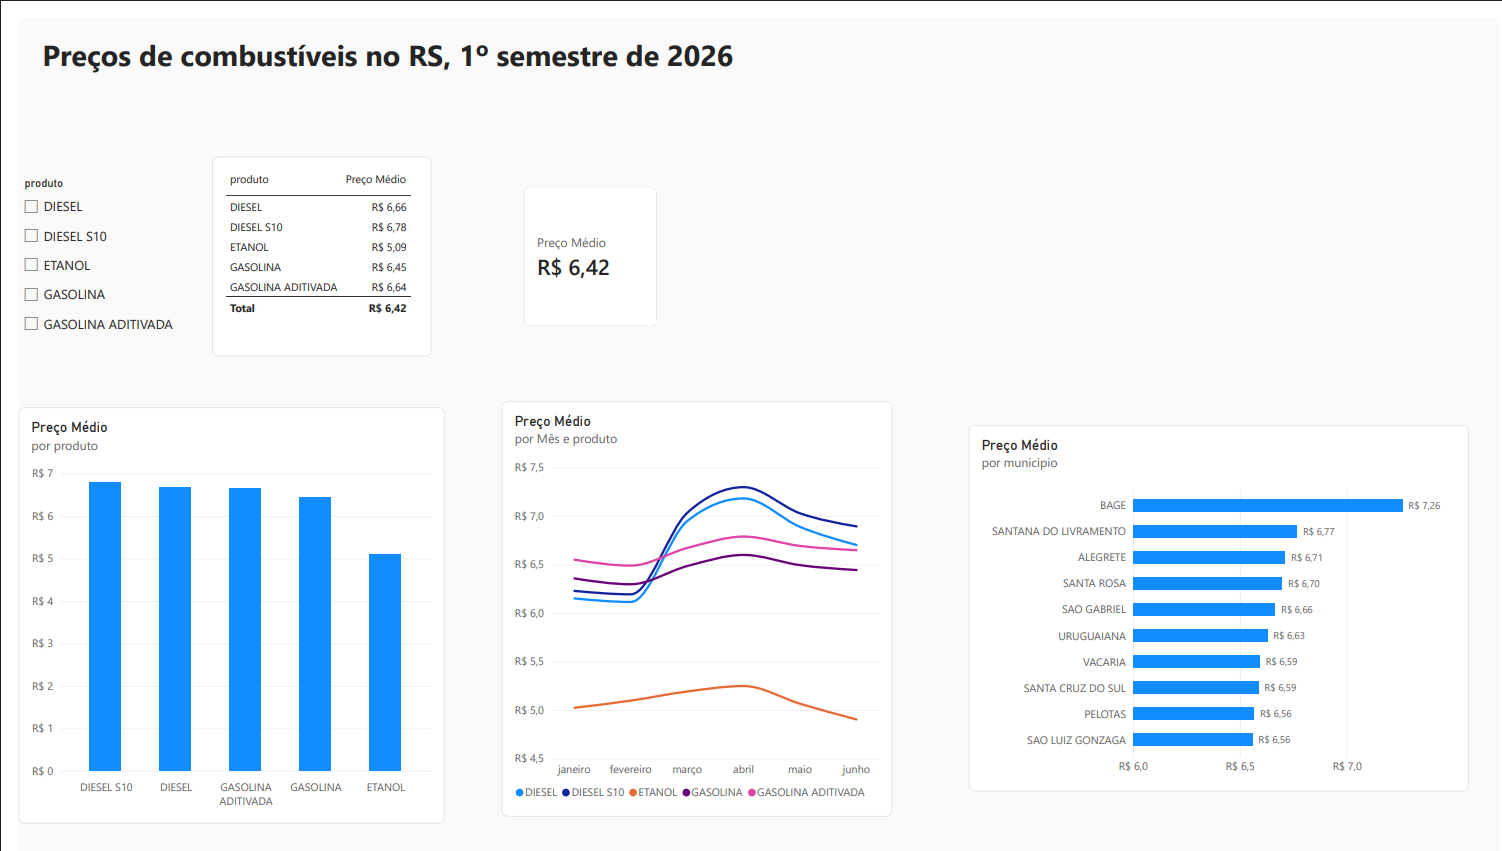

What the dashboard file says about the page in this screenshot:
{"tool":"powerbi","page":{"name":"Página 1","canvas":[1920,1080],"ordinal":0},"visuals":[{"type":"cardVisual","fields":{"Data":["combustiveis_liquidos_rs_2026_01.Preço Médio"]},"box":[654.5,218.2,172.9,181.1],"z":0},{"type":"tableEx","fields":{"Values":["combustiveis_liquidos_rs_2026_01.produto","combustiveis_liquidos_rs_2026_01.Preço Médio"]},"box":[251.1,179.1,284,259.3],"z":2},{"type":"lineClusteredColumnComboChart","fields":{"Category":["combustiveis_liquidos_rs_2026_01.produto"],"Y":["combustiveis_liquidos_rs_2026_01.Preço Médio"]},"box":[0,504.3,551.6,539.3],"z":3},{"type":"lineChart","fields":{"Category":["combustiveis_liquidos_rs_2026_01.data_da_coleta.Variation.Hierarquia de datas.Mês"],"Series":["combustiveis_liquidos_rs_2026_01.produto"],"Y":["combustiveis_liquidos_rs_2026_01.Preço Médio"]},"box":[625.7,496.1,506.3,539.3],"z":4},{"type":"barChart","fields":{"Category":["combustiveis_liquidos_rs_2026_01.municipio"],"Y":["combustiveis_liquidos_rs_2026_01.Preço Médio"]},"box":[1230.9,526.9,648.4,475.5],"z":5},{"type":"slicer","fields":{"Values":["combustiveis_liquidos_rs_2026_01.produto"]},"box":[0,205.8,284,232.6],"z":6},{"type":"textbox","box":[30.9,20.6,903.6,84.4],"z":7}]}

Visuals, with their boxes in screenshot pixels (x1, y1, x2, y2), scaled from the page's 1920x1080 canvas onto the 1502x851 screenshot:
cardVisual - combustiveis_liquidos_rs_2026_01.Preço Médio: (512, 172, 647, 315)
tableEx - combustiveis_liquidos_rs_2026_01.produto x combustiveis_liquidos_rs_2026_01.Preço Médio: (196, 141, 419, 345)
lineClusteredColumnComboChart - combustiveis_liquidos_rs_2026_01.produto x combustiveis_liquidos_rs_2026_01.Preço Médio: (0, 397, 432, 822)
lineChart - combustiveis_liquidos_rs_2026_01.data_da_coleta.Variation.Hierarquia de datas.Mês x combustiveis_liquidos_rs_2026_01.produto: (489, 391, 886, 816)
barChart - combustiveis_liquidos_rs_2026_01.municipio x combustiveis_liquidos_rs_2026_01.Preço Médio: (963, 415, 1470, 790)
slicer - combustiveis_liquidos_rs_2026_01.produto: (0, 162, 222, 345)
textbox: (24, 16, 731, 83)
